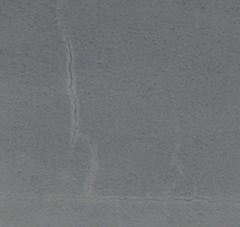fissura: (42, 4, 111, 215), (4, 168, 232, 215)
